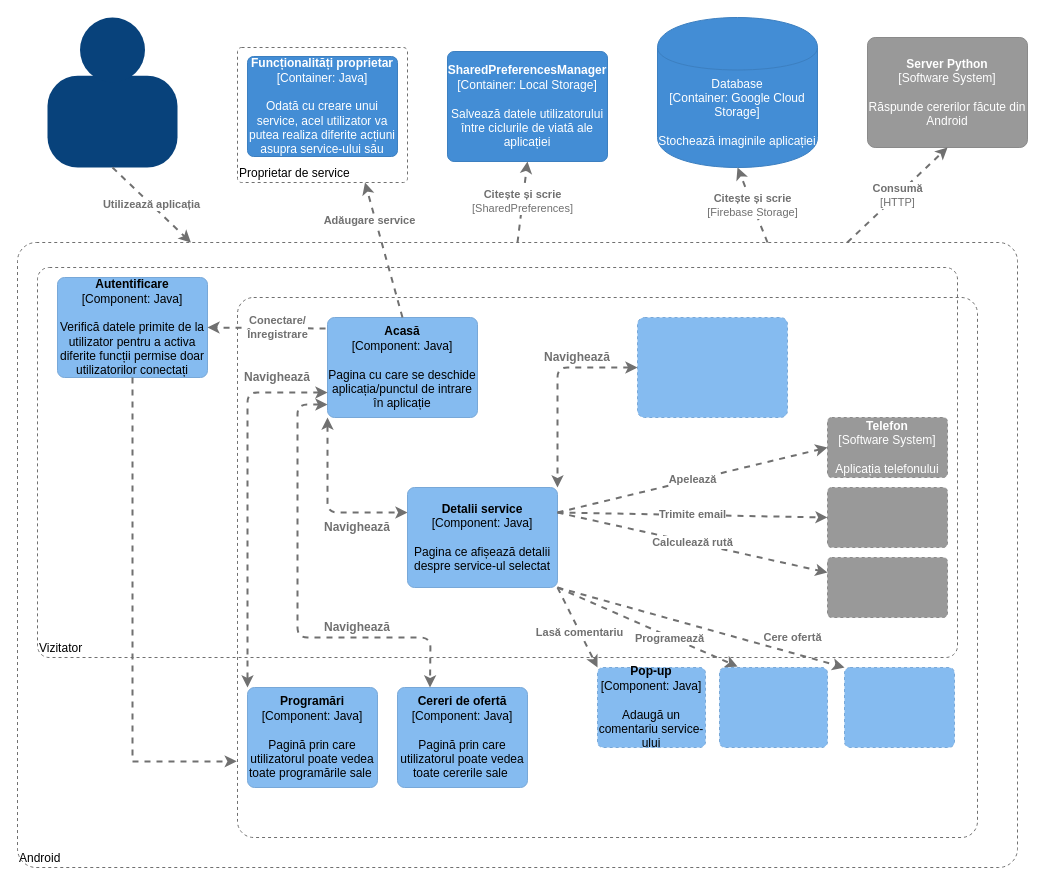
This 1045x885 diagram has some shape labels left out. The box of each missing label's shape, as (x1, y1, x2, y2) in pixels:
Comentarii [Component: Java ] Vizualizează comentariile service-ului: (636, 316, 788, 418)
Email [Software System] Aplicația telefonului: (826, 486, 948, 548)
Google Maps [Software System] Aplicația telefonului: (826, 556, 948, 618)
Pop-up [Component: Java ] Cere o ofertă service-ului: (844, 666, 954, 748)
Pop-up calendar [Component: Java ] Programează utilizatorul la service: (718, 666, 828, 748)
Utilizator [Person] Utilizator al aplicației: (46, 75, 178, 168)
Utilizator conectat: (236, 296, 978, 838)
